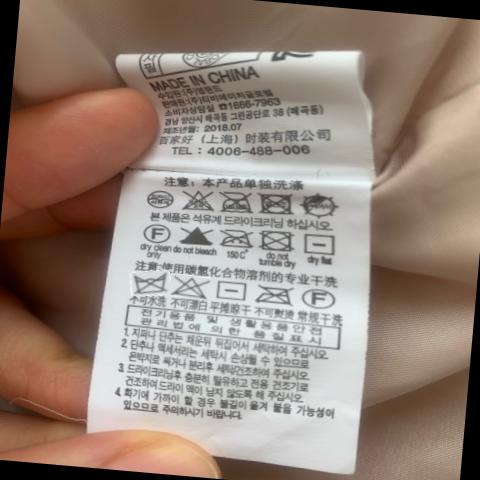DN_bleach: (182, 186, 221, 214), (181, 221, 219, 248), (173, 277, 209, 301)
DN_iron: (255, 281, 294, 307), (220, 224, 255, 252)
DN_tumble_dry: (259, 190, 299, 217), (258, 227, 297, 253)
DN_wash: (134, 270, 171, 296)
dry_clean_petrol_only: (299, 286, 342, 312), (145, 188, 177, 211), (142, 223, 175, 243)
dry_flat: (211, 279, 254, 303), (302, 233, 337, 254)
dry_flat_in_shade: (301, 189, 343, 220)
iron_high: (219, 188, 257, 216)
